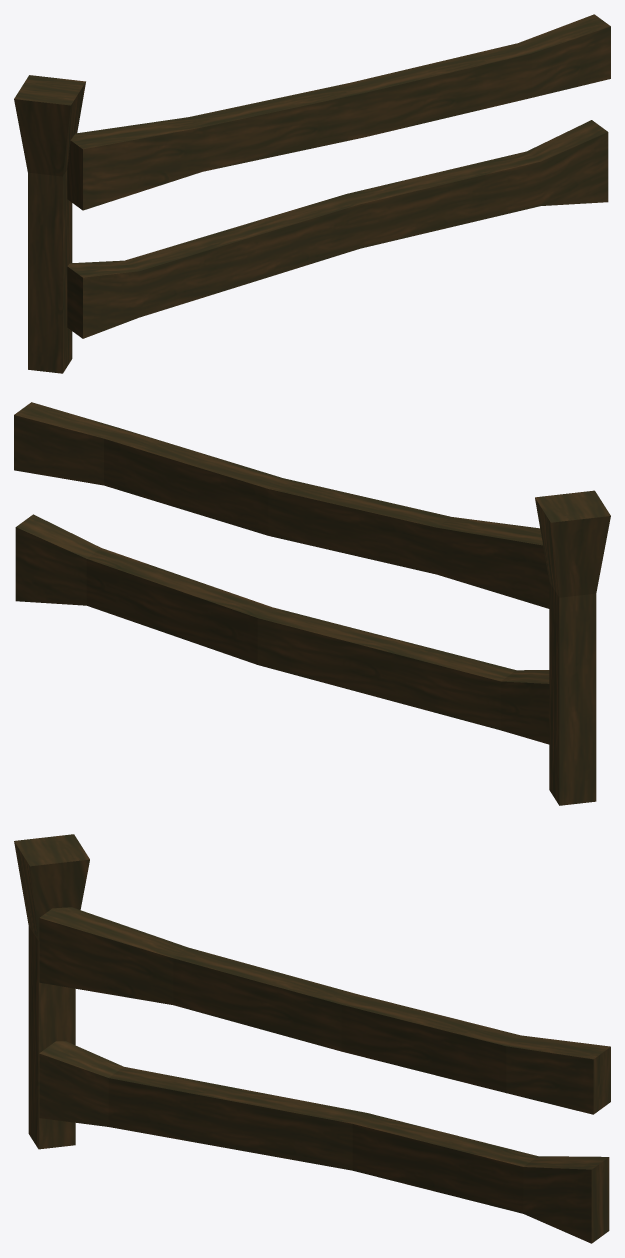
Rendered from SM_WoodFence.glb.
3 renders of one model, top to bottom at view 1: azimuth 30°, elevation 25°; view 2: azimuth 150°, elevation 25°; view 3: azimuth 330°, elevation 25°, orthographic. The views are drawn at different scales.
Visible parts, largest first — view 1: SM_WoodFence; view 2: SM_WoodFence; view 3: SM_WoodFence.
Boxes of the visible parts, x1,y1,x2,y2 form: SM_WoodFence: (14,14,610,373); SM_WoodFence: (14,402,610,805); SM_WoodFence: (14,834,610,1243).
Bounding box in the file's own units: 2.13 × 0.973 × 0.3004.
Materials: 1 (1 with a texture image).
